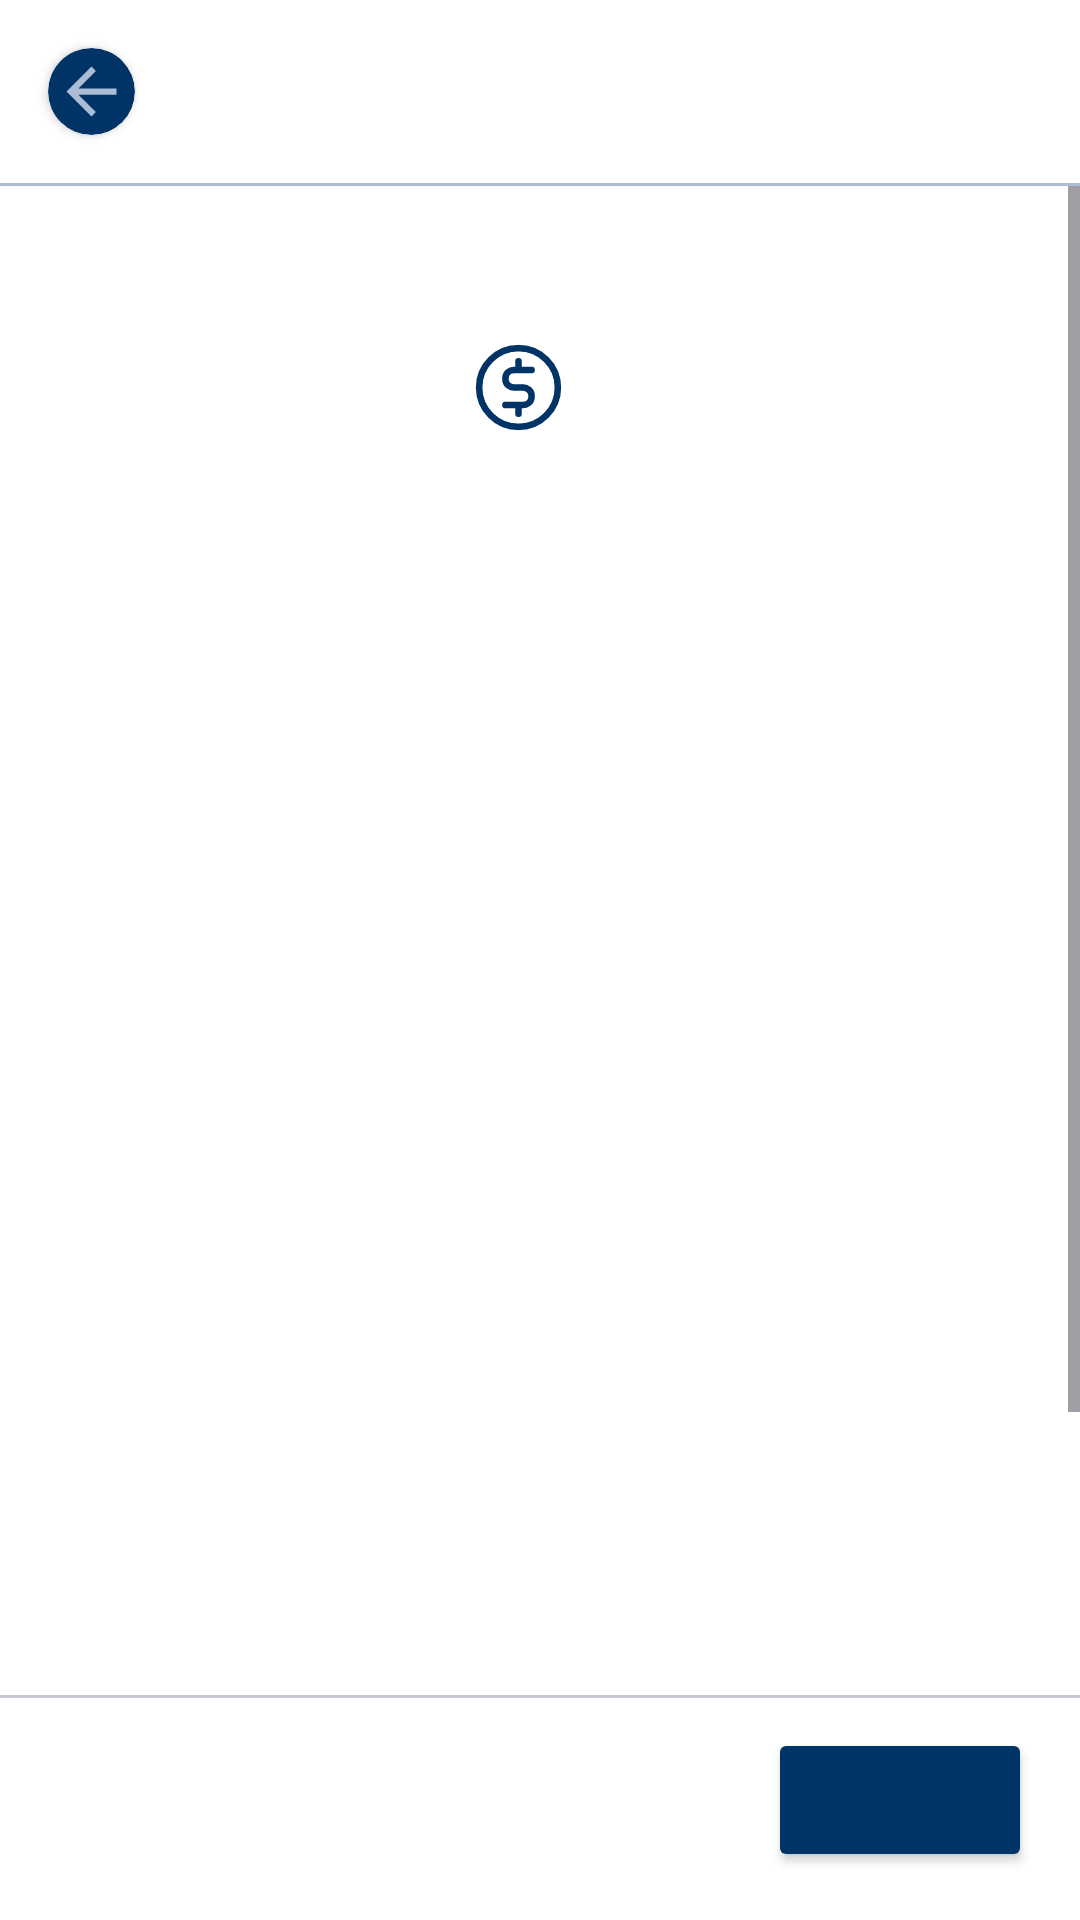

Named icons in this screenshot (1080x1920) and their centers, (x=x, y=y):
arrow: (x=91, y=91)
coin: (x=518, y=387)
